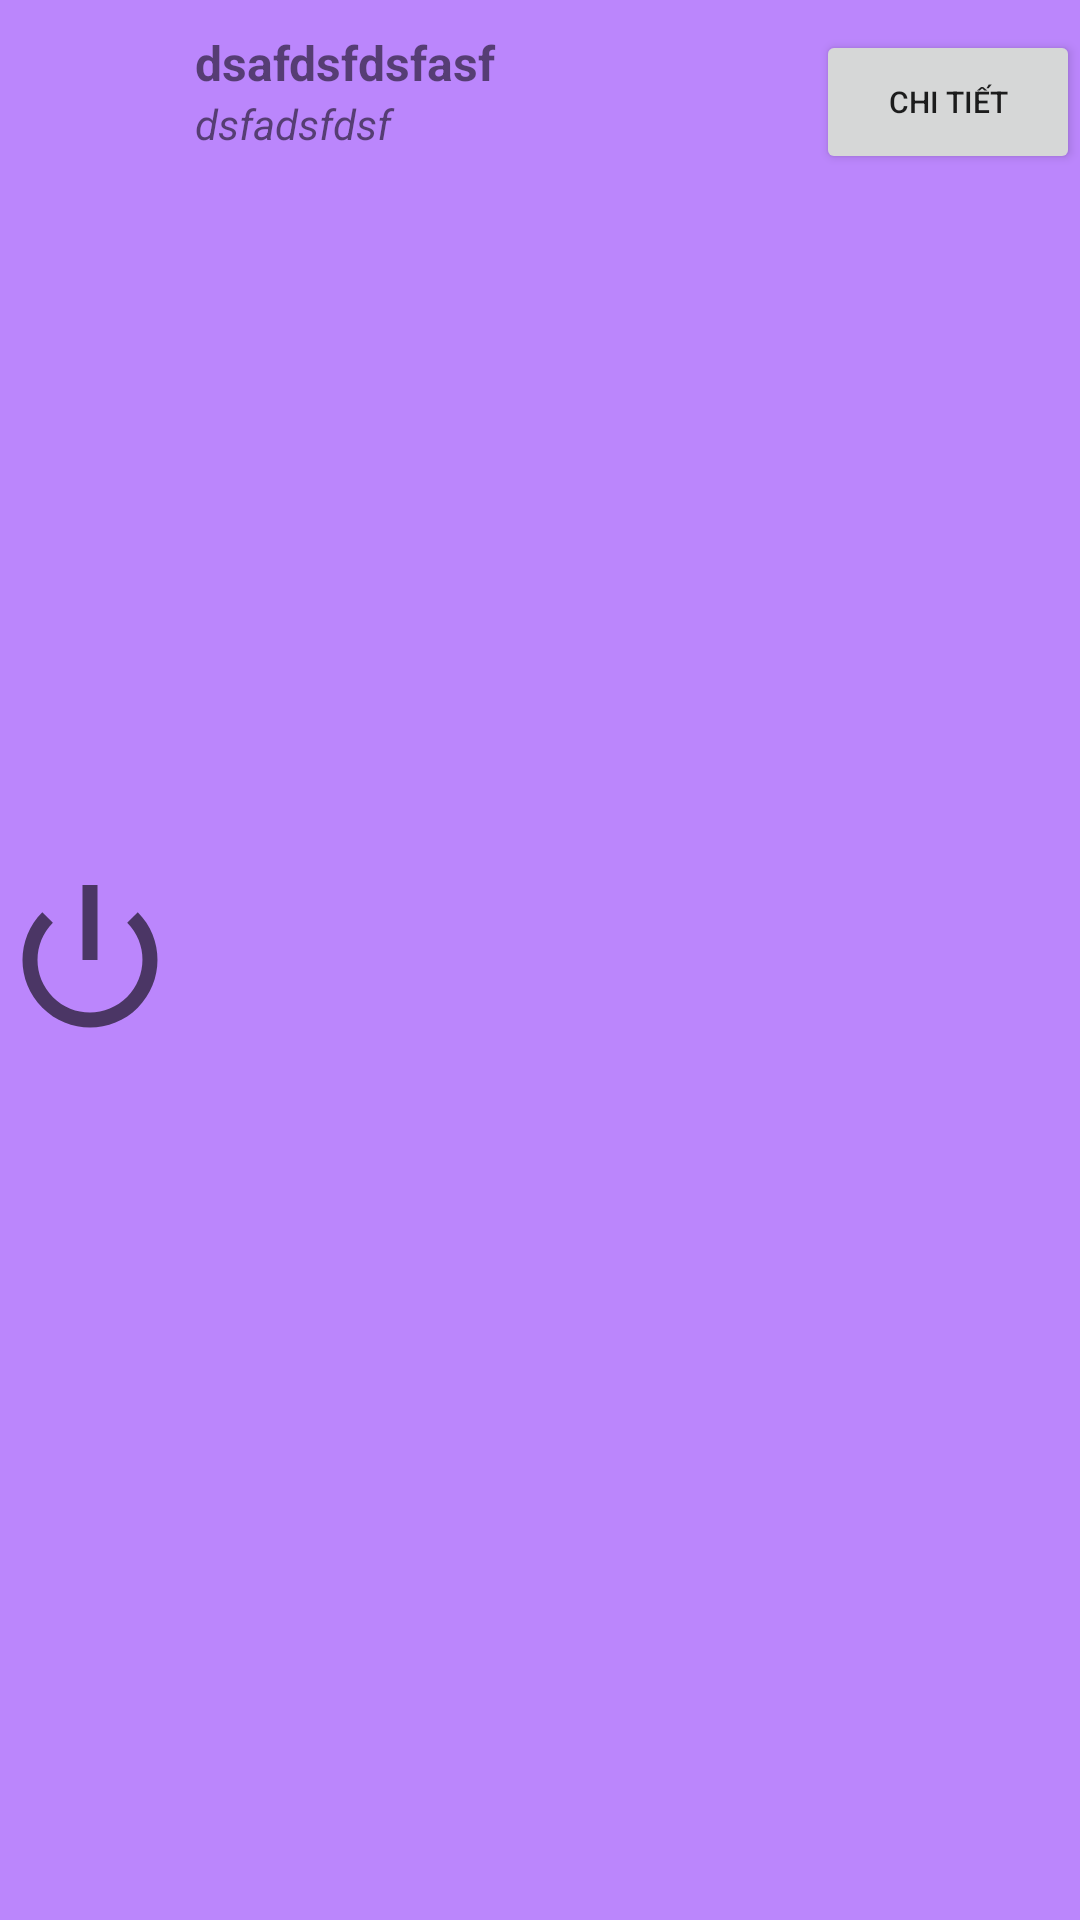

Icons on this 1080x1920 Android screen, each with its box as (left=x1, top=y1, right=x2, bottom=y2):
lock power off: (left=22, top=885, right=158, bottom=1028)
